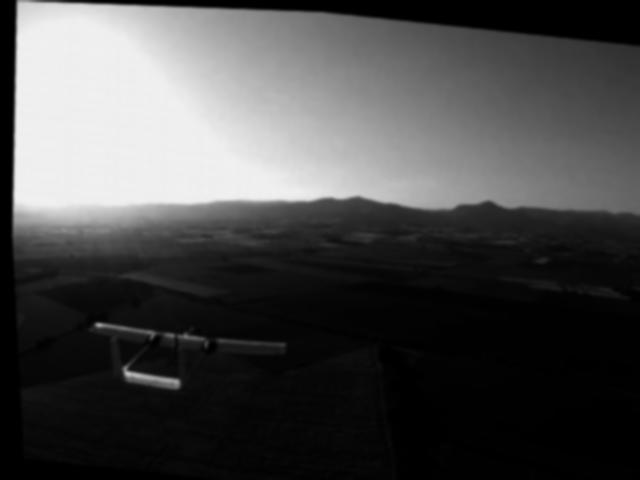hedef: (75, 304, 285, 412)
